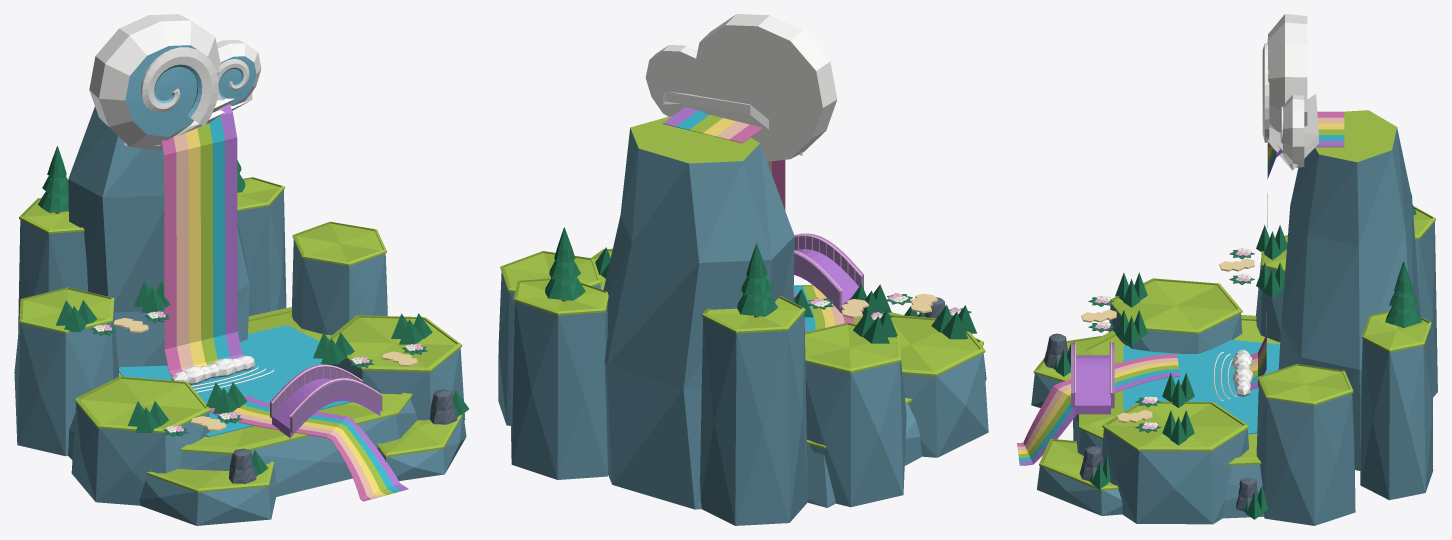
The model's file is decoration.glb.
The picture shows the model from 3 angles, left to right: view 1: azimuth 30°, elevation 25°; view 2: azimuth 150°, elevation 25°; view 3: azimuth 270°, elevation 25°; orthographic projection. The views are drawn at different scales.
Parts seen in each view (by area): view 1: 14_R3B_Falls_SteppedClosedCliffs, 14_R3B_Falls_ContinuousRainbowAndPool, 14_R3B_Falls_FoldedWhiteCloudCrowns, 14_R3B_Falls_LayeredBanksAndPines, 14_R3B_FallsVillage_PaperStoneBridgeAndPaths; view 2: 14_R3B_Falls_SteppedClosedCliffs, 14_R3B_Falls_FoldedWhiteCloudCrowns, 14_R3B_Falls_LayeredBanksAndPines, 14_R3B_FallsVillage_PaperStoneBridgeAndPaths, 14_R3B_Falls_ContinuousRainbowAndPool; view 3: 14_R3B_Falls_SteppedClosedCliffs, 14_R3B_Falls_ContinuousRainbowAndPool, 14_R3B_Falls_LayeredBanksAndPines, 14_R3B_Falls_FoldedWhiteCloudCrowns, 14_R3B_FallsVillage_PaperStoneBridgeAndPaths.
Part boxes in pixels (x1,y1,x2,y2): 14_R3B_Falls_SteppedClosedCliffs: [14, 107, 466, 525]; 14_R3B_Falls_ContinuousRainbowAndPool: [119, 104, 408, 501]; 14_R3B_Falls_FoldedWhiteCloudCrowns: [89, 14, 261, 384]; 14_R3B_Falls_LayeredBanksAndPines: [38, 146, 468, 476]; 14_R3B_FallsVillage_PaperStoneBridgeAndPaths: [113, 318, 417, 437]; 14_R3B_Falls_SteppedClosedCliffs: [498, 116, 988, 525]; 14_R3B_Falls_FoldedWhiteCloudCrowns: [645, 14, 837, 161]; 14_R3B_Falls_LayeredBanksAndPines: [545, 227, 976, 343]; 14_R3B_FallsVillage_PaperStoneBridgeAndPaths: [794, 233, 937, 318]; 14_R3B_Falls_ContinuousRainbowAndPool: [662, 107, 854, 332]; 14_R3B_Falls_SteppedClosedCliffs: [1031, 110, 1437, 525]; 14_R3B_Falls_ContinuousRainbowAndPool: [1017, 111, 1344, 465]; 14_R3B_Falls_LayeredBanksAndPines: [1053, 193, 1421, 519]; 14_R3B_Falls_FoldedWhiteCloudCrowns: [1232, 14, 1318, 396]; 14_R3B_FallsVillage_PaperStoneBridgeAndPaths: [1071, 258, 1254, 422].
Bounding box in the file's own units: 1.54 × 1.56 × 1.52.
